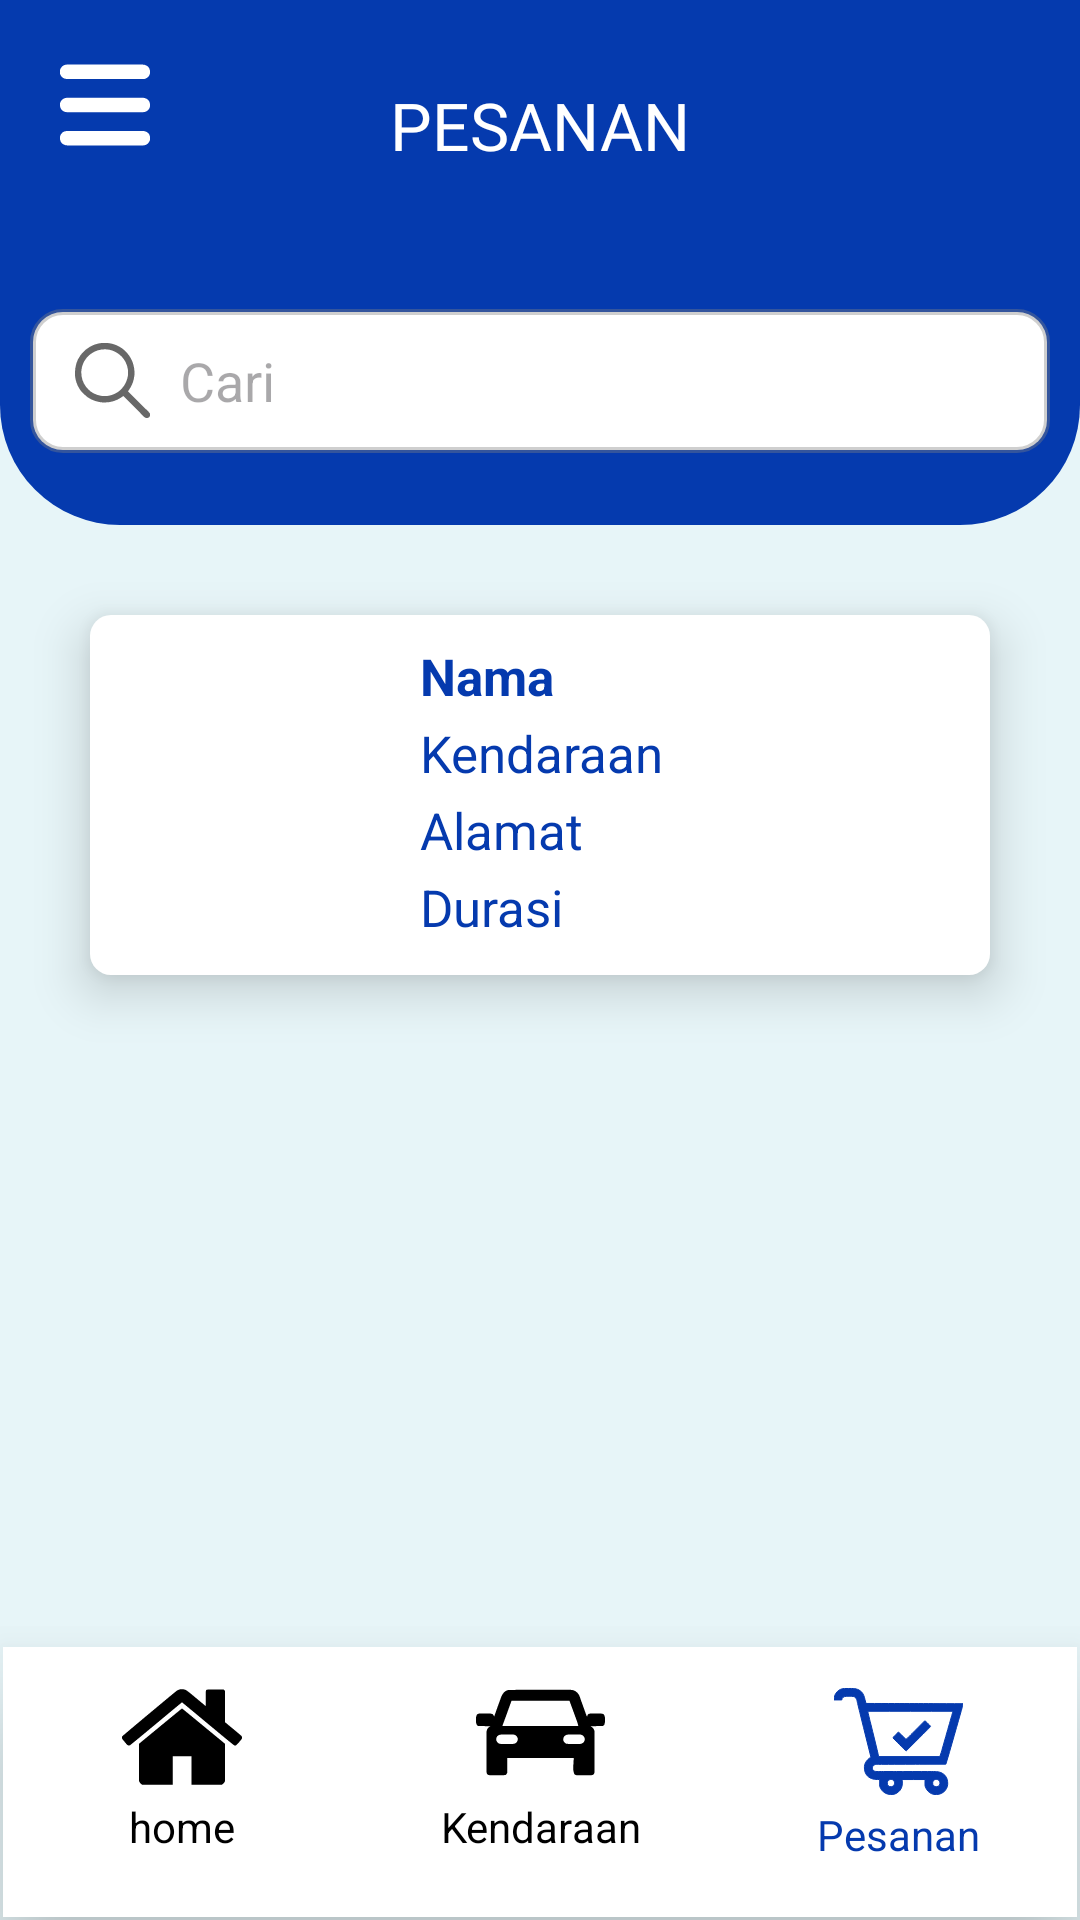

Screen size 1080x1920. Icon name, then its center in pixels as point (x, y):
checkout aktif: point (898, 1741)
menu: point (105, 105)
